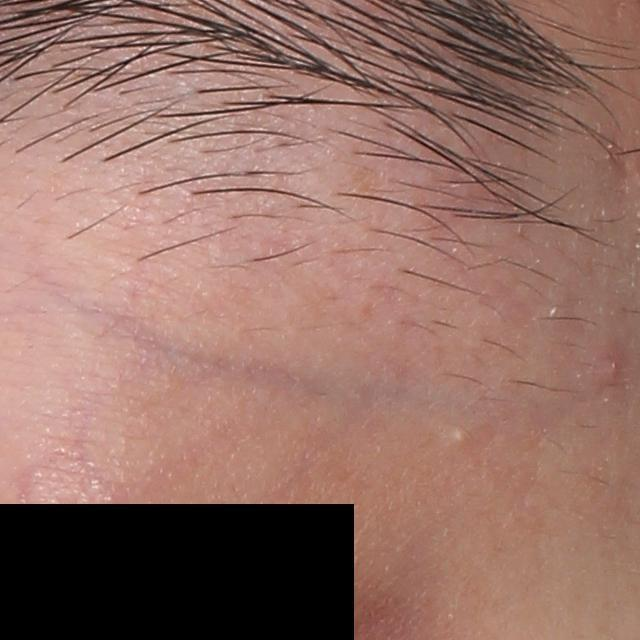comedo: (452, 428, 470, 447)
papule: (592, 345, 623, 383)
